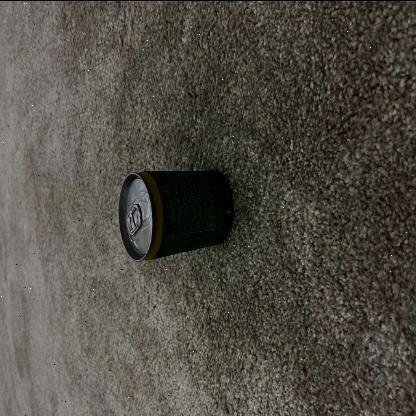Can: (116, 166, 235, 260)
